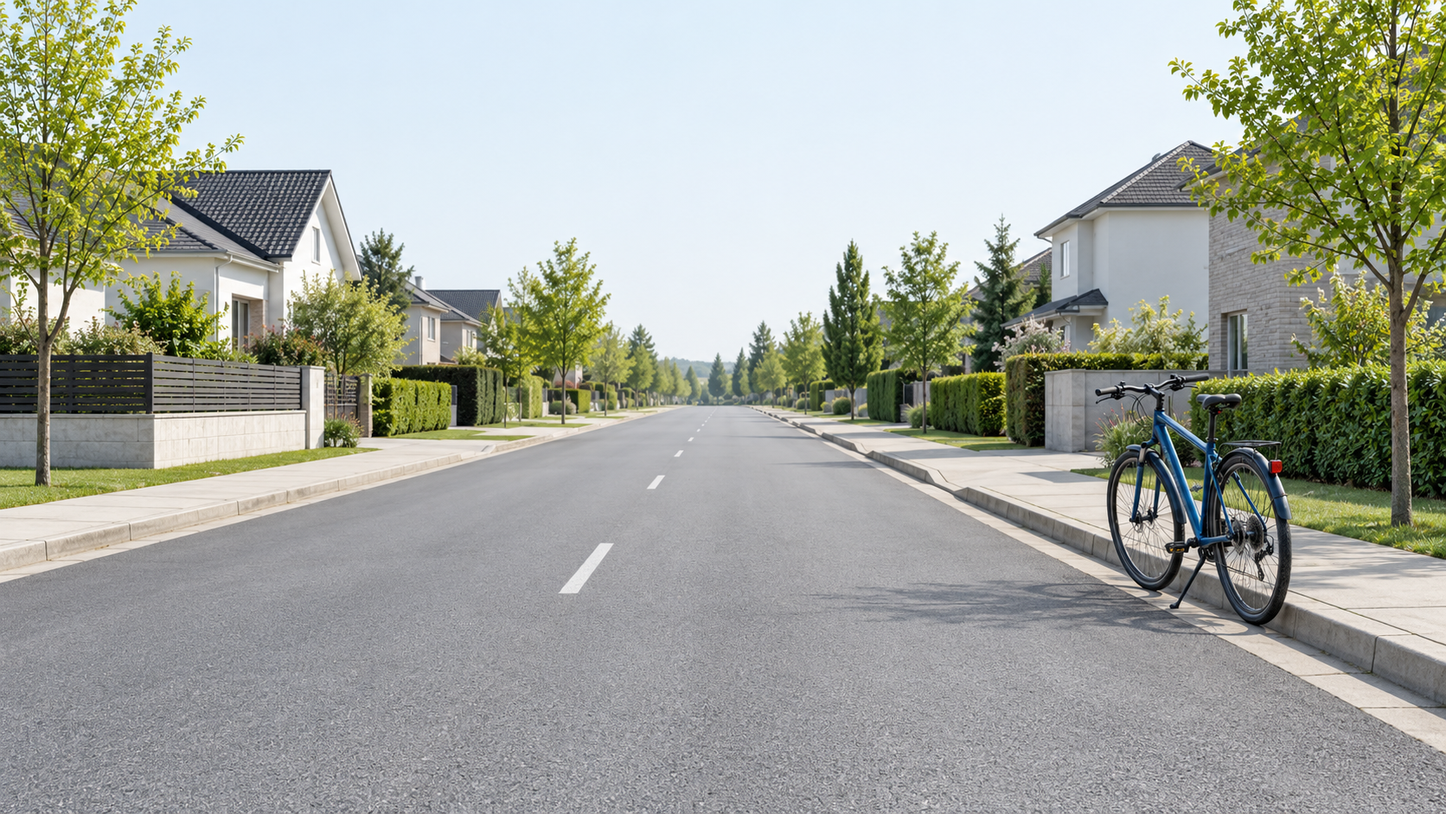bicycle: (1087, 356, 1309, 628)
